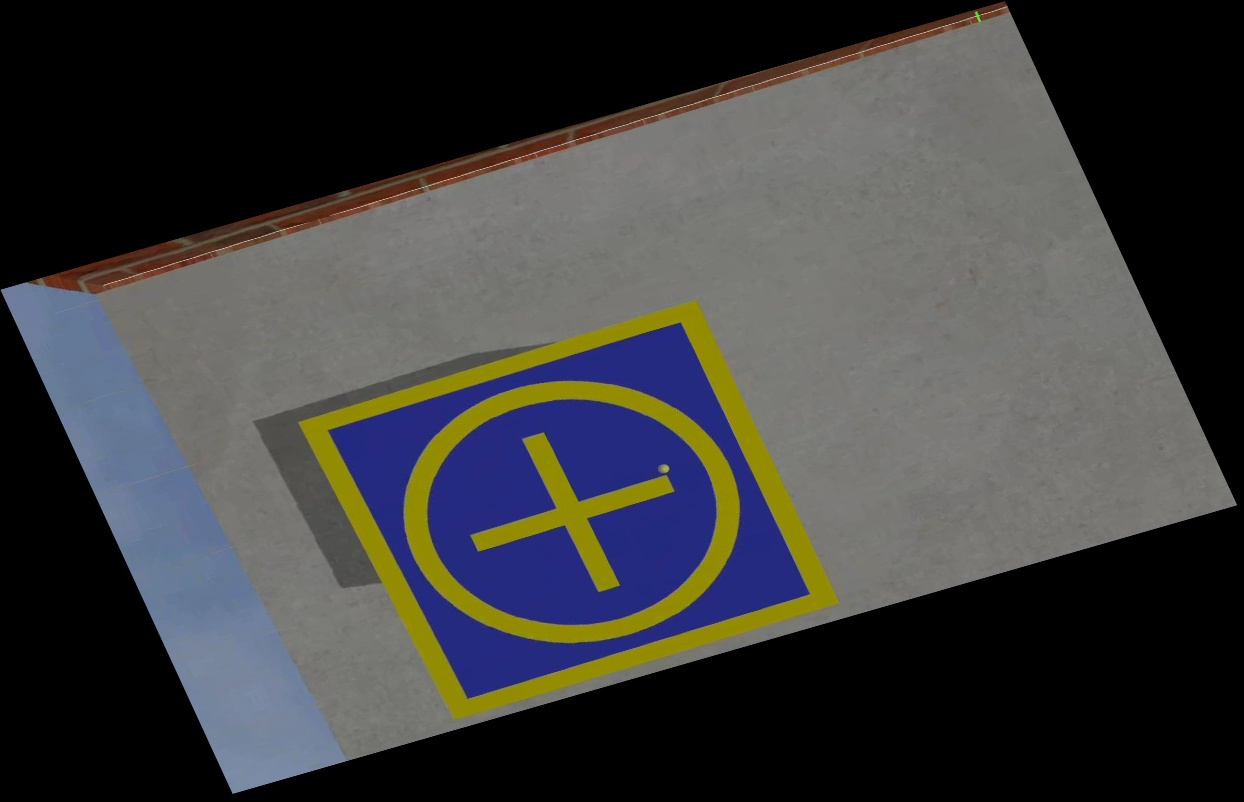small_base: (297, 298, 840, 724)
